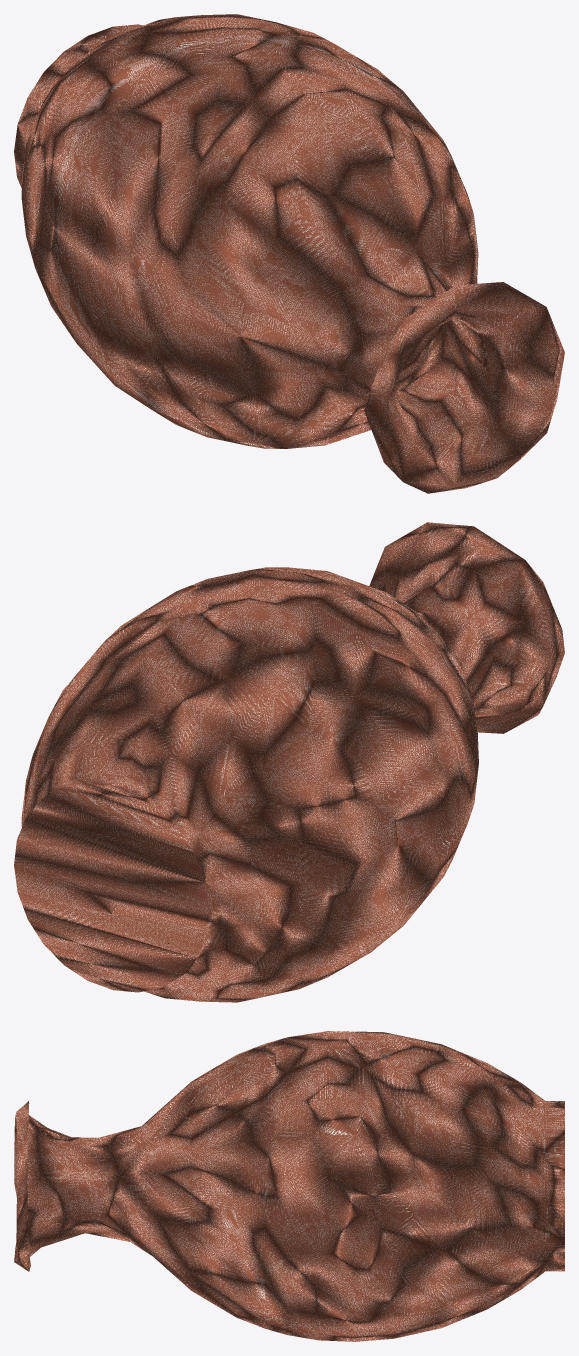
File: model_align.obj
3 views of the same model, one above another, from view 1: azimuth 30°, elevation 25°; view 2: azimuth 150°, elevation 25°; view 3: azimuth 270°, elevation 25° (orthographic). The views are drawn at different scales.
Size of the model in its own units: 0.1131 by 0.1129 by 0.2.
